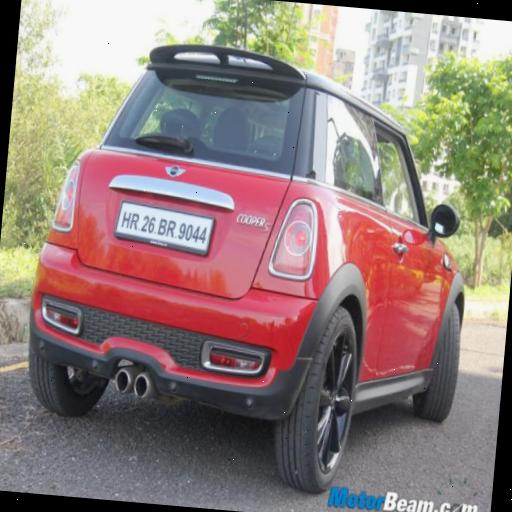number plate: (116, 198, 216, 258)
